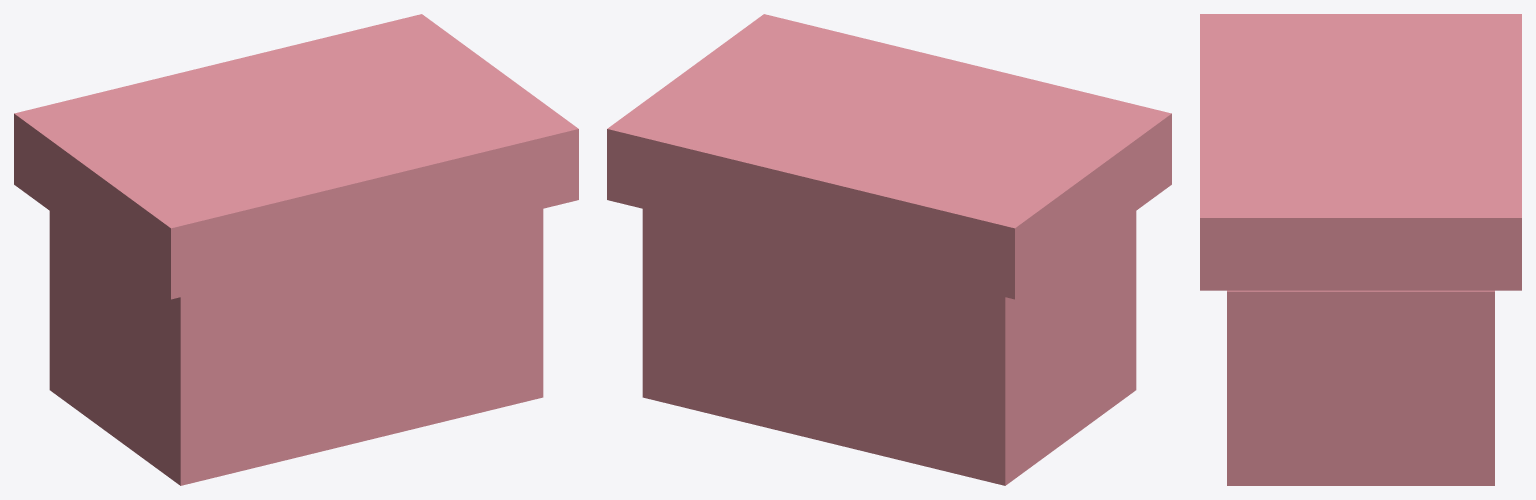
Rendered from medicine.gltf.
The picture shows the model from 3 angles, left to right: view 1: azimuth 30°, elevation 25°; view 2: azimuth 150°, elevation 25°; view 3: azimuth 270°, elevation 25°; orthographic projection. The views are drawn at different scales.
Size of the model in its own units: 18 by 11.5 by 12.
